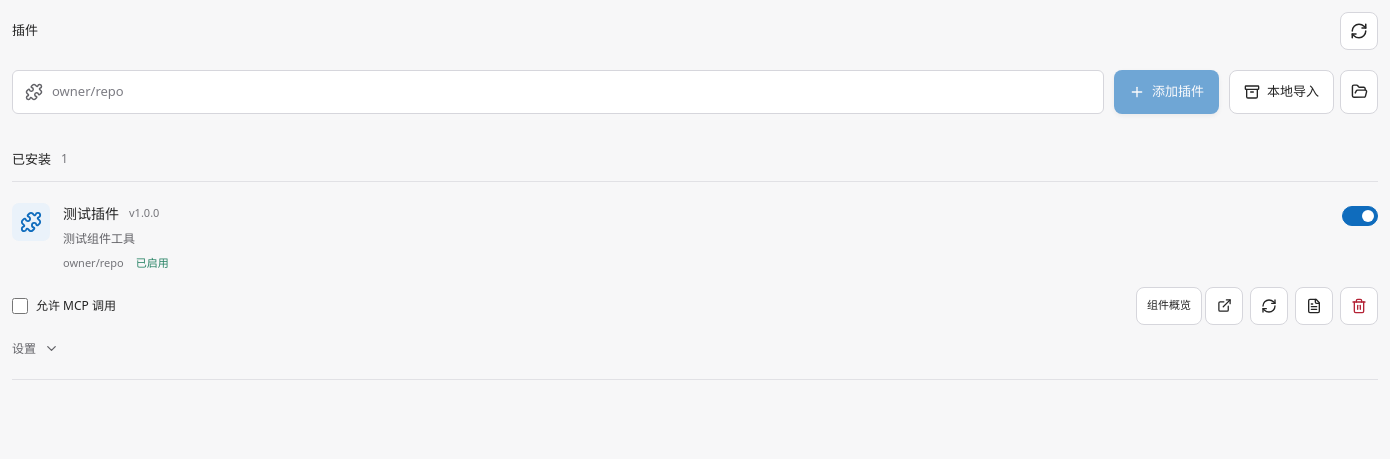
it: plugin management › uses the local picker for local updates and rejects a different plugin id
What coordinates should you click on to do the following:
click the button named "检查更新 测试插件"
I would click on:
 (1269, 306)
Its box is [1250,286,1288,324].
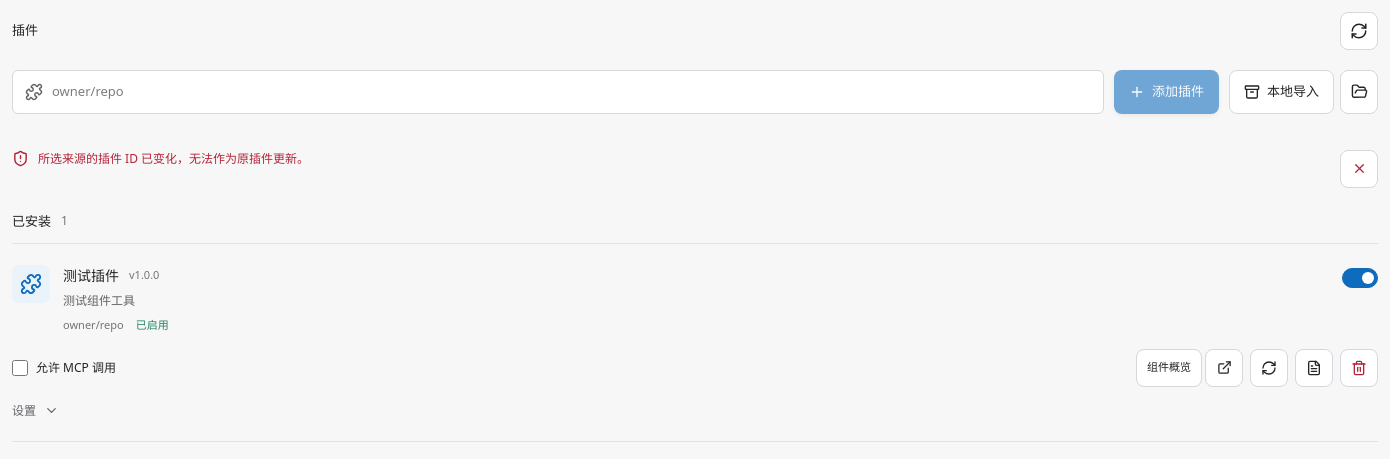
Now the message shows "插件 ID 已变化", box [38,150,309,166]
